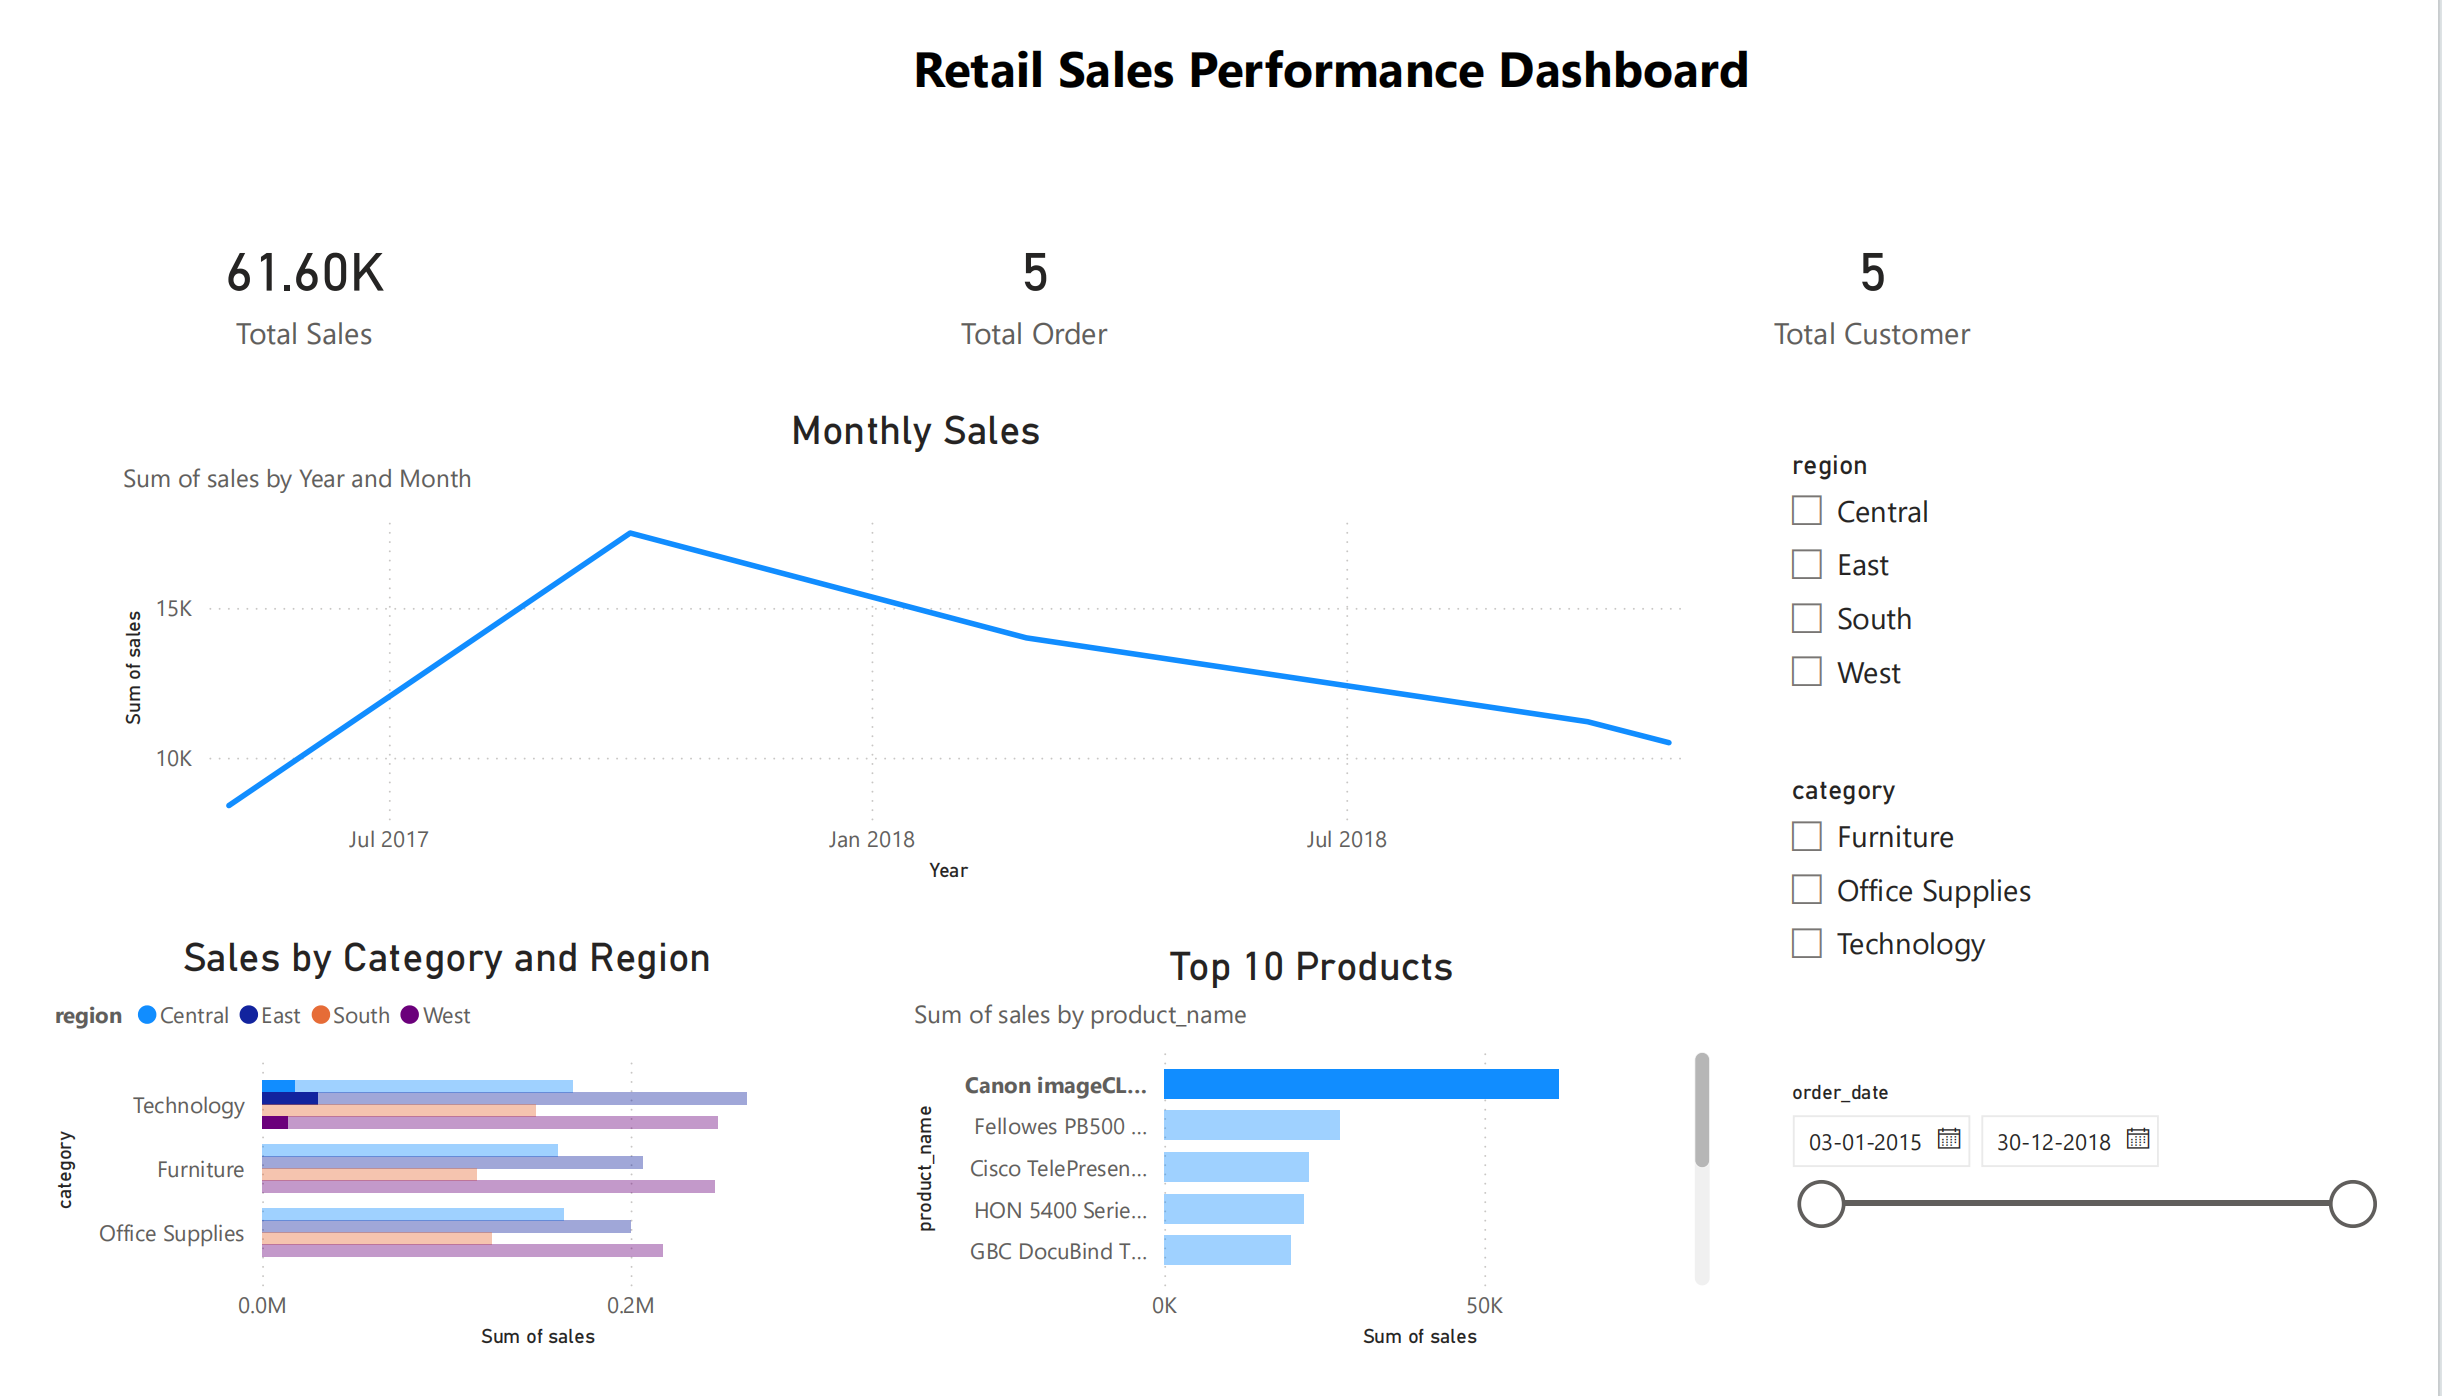

Layout of this report page (visuals, bound fields, positions):
{"tool":"powerbi","page":{"name":"Page 1","canvas":[1280,720],"ordinal":0},"visuals":[{"type":"card","fields":{"Values":["Sum(clean_superstore.sales)"]},"box":[0,70,300,145],"z":0},{"type":"card","fields":{"Values":["Count(clean_superstore.order_id)"]},"box":[403,70,284,145],"z":1000},{"type":"card","fields":{"Values":["Count(clean_superstore.customer_id)"]},"box":[868,70,260,145],"z":2000},{"type":"lineChart","title":" Monthly Sales","fields":{"Y":["Sum(clean_superstore.sales)"],"Category":["clean_superstore.order_date.Variation.Date Hierarchy.Year","clean_superstore.order_date.Variation.Date Hierarchy.Month"]},"box":[47,207,868,261],"z":3000},{"type":"clusteredBarChart","title":"Sales by Category and Region","fields":{"Category":["clean_superstore.category"],"Y":["Sum(clean_superstore.sales)"],"Series":["clean_superstore.region"]},"box":[10,492,435,228],"z":4000},{"type":"clusteredBarChart","title":"Top 10 Products","fields":{"Category":["clean_superstore.product_name"],"Y":["Sum(clean_superstore.sales)"]},"box":[475,497,440,223],"z":5000},{"type":"slicer","fields":{"Values":["clean_superstore.region"]},"box":[942,225,338,149],"z":6000},{"type":"slicer","fields":{"Values":["clean_superstore.category"]},"box":[942,401,338,149],"z":7000},{"type":"slicer","fields":{"Values":["clean_superstore.order_date"]},"box":[941.5,566.1,337,149.3],"z":8000},{"type":"textbox","box":[420,0,531,70],"z":8001},{"type":"textbox","box":[1128,65,152,150],"z":8002}]}

Visuals, with their boxes in screenshot pixels (x1, y1, x2, y2), scaled from the page's 1280x720 canvas onto the 2442x1396 screenshot:
card - Sum(clean_superstore.sales): 0:136:572:417
card - Count(clean_superstore.order_id): 769:136:1311:417
card - Count(clean_superstore.customer_id): 1656:136:2152:417
" Monthly Sales" lineChart: 90:401:1746:907
"Sales by Category and Region" clusteredBarChart: 19:954:849:1395
"Top 10 Products" clusteredBarChart: 906:964:1746:1395
slicer - clean_superstore.region: 1797:436:2441:725
slicer - clean_superstore.category: 1797:777:2441:1066
slicer - clean_superstore.order_date: 1796:1098:2439:1387
textbox: 801:0:1814:136
textbox: 2152:126:2441:417
